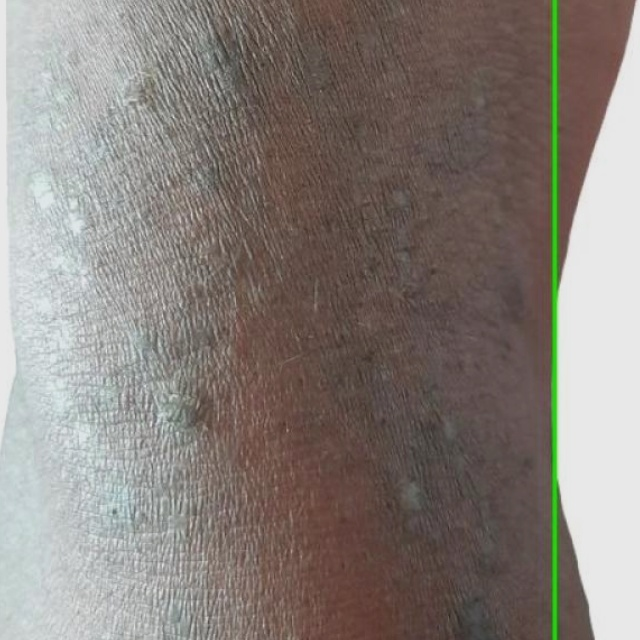Contact Dermatitis: (554, 0, 639, 639)
